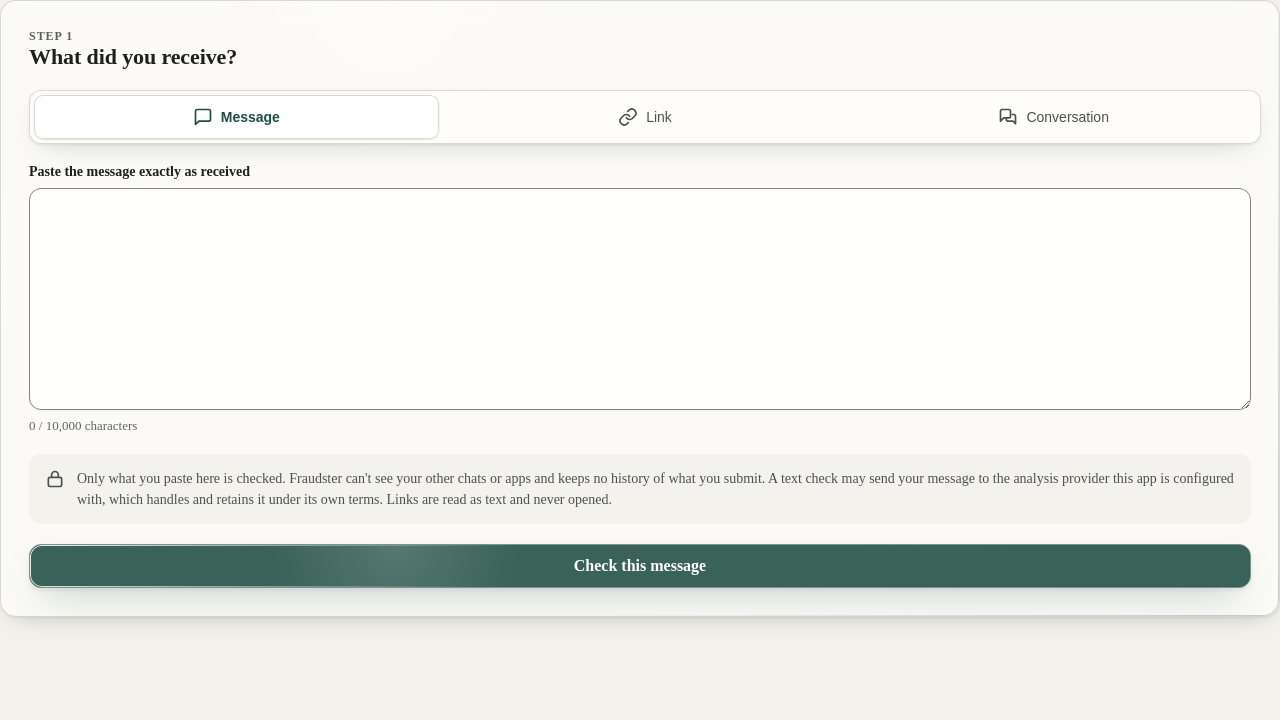
Test case: ScanForm message type › blocks an empty message with a plain error
What coordinates should you click on to do the following:
click the button "Check this message"
I would click on:
 (640, 566)
Its box is [29,544,1251,588].
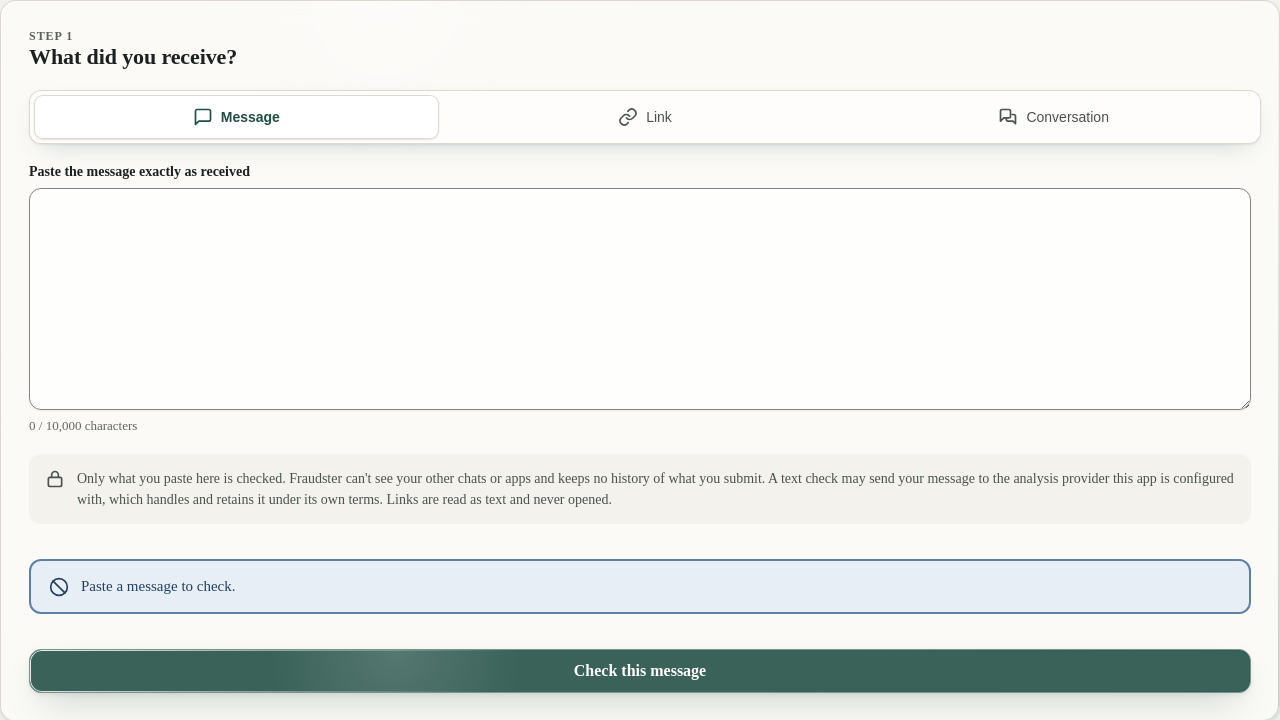
Expected: the message reads "Paste a message to check.", [81,578,236,594]
